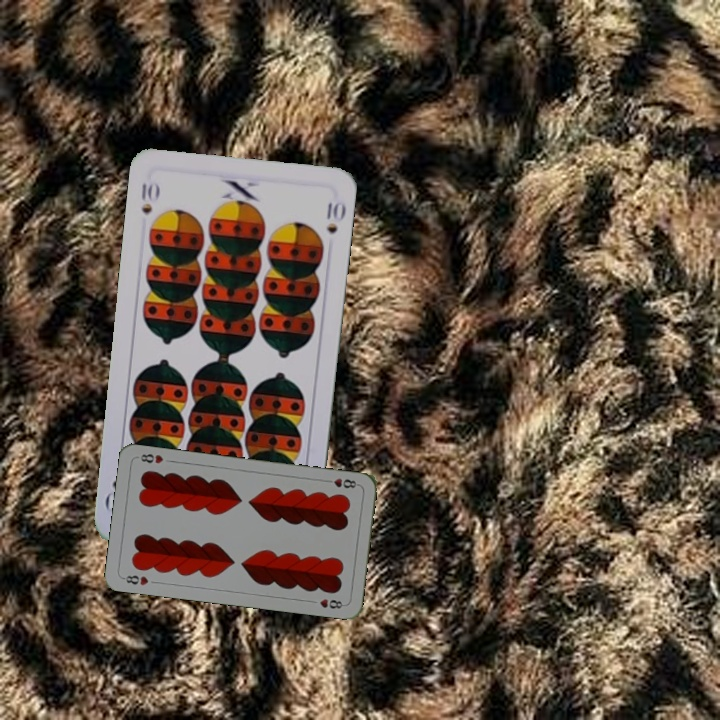H8: (321, 474, 361, 491), (119, 571, 151, 588)
S10: (137, 178, 162, 218)
